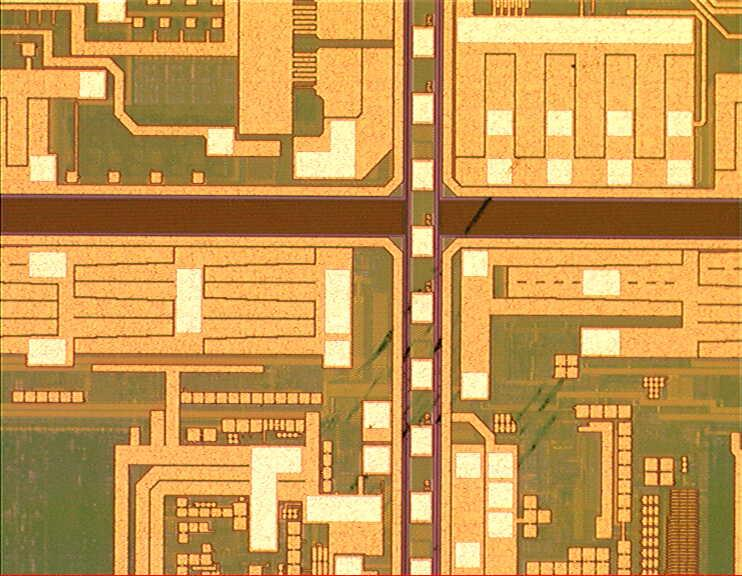SCRATCH: (290, 38, 613, 518)
